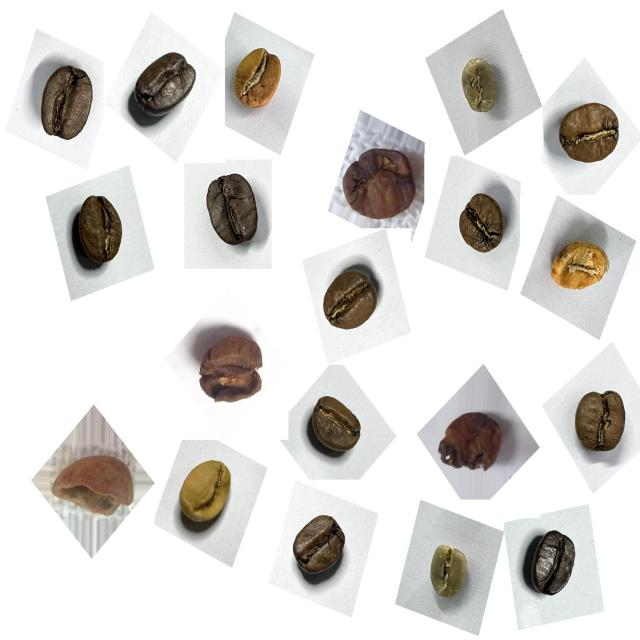bad: (336, 134, 426, 237), (190, 319, 270, 413), (434, 395, 516, 484), (55, 444, 137, 527)
dark: (124, 37, 204, 131), (516, 518, 589, 608)
green: (420, 531, 480, 611), (452, 45, 509, 124)
light: (168, 448, 245, 543), (540, 224, 618, 309), (228, 36, 294, 122)
medium: (548, 93, 630, 182), (29, 58, 104, 153), (195, 165, 270, 256), (311, 256, 388, 343), (282, 501, 355, 592), (65, 187, 138, 276), (564, 380, 637, 464), (450, 182, 516, 266), (304, 388, 372, 463)
